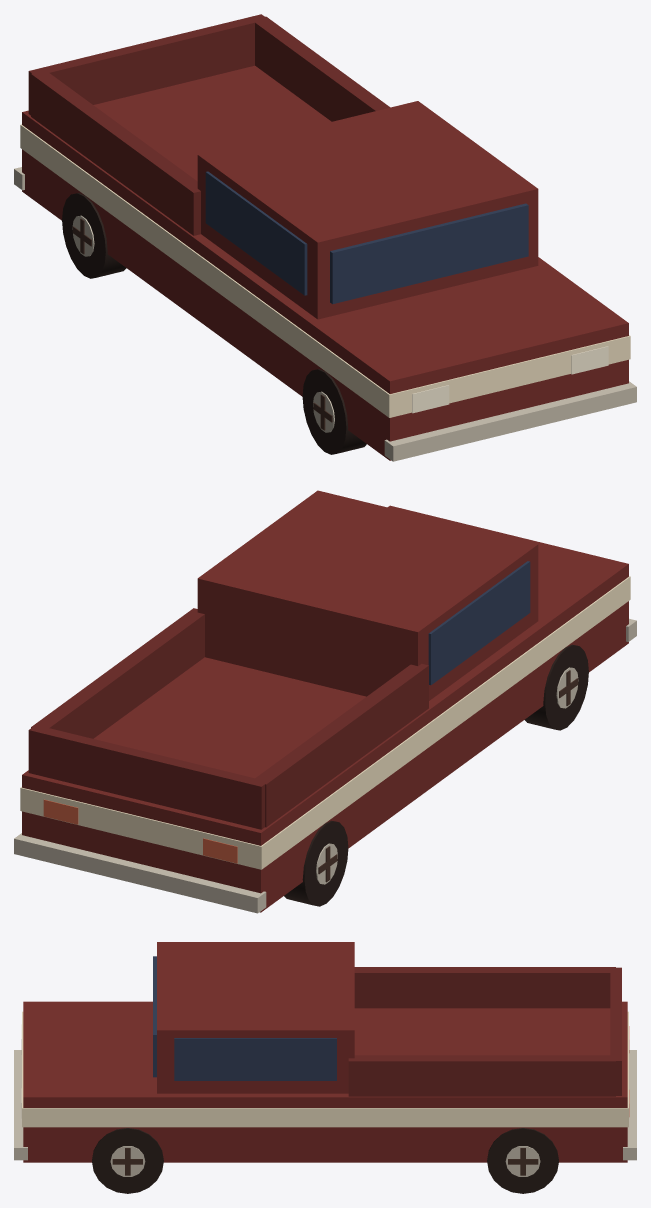
The model's file is pickup.glb.
3 views of the same model, one above another, from view 1: azimuth 30°, elevation 25°; view 2: azimuth 150°, elevation 25°; view 3: azimuth 270°, elevation 25° (orthographic). The views are drawn at different scales.
Visible parts, largest first — view 1: Box1, Box3, Box2, Box5, Box8, Box6, Box7, Box4, Box9, Part2, Part4, Box11 (+1 smaller); view 2: Box1, Box3, Box2, Box8, Box6, Box7, Box4, Box10, Part4, Part2, Box14, Box12; view 3: Box1, Box3, Box2, Box7, Box6, Box4, Part6, Part8, Box8, Box9, Box10, Box5.
Part boxes in pixels (<box>): Box1: <box>22,65,628,460</box>; Box3: <box>197,101,538,319</box>; Box2: <box>20,124,630,417</box>; Box5: <box>330,203,528,304</box>; Box8: <box>28,14,264,115</box>; Box6: <box>31,70,200,235</box>; Box7: <box>252,16,390,121</box>; Box4: <box>205,171,307,295</box>; Box9: <box>384,381,636,461</box>; Part2: <box>62,193,126,278</box>; Part4: <box>302,369,366,454</box>; Box11: <box>412,385,449,413</box>; Box1: <box>22,505,628,912</box>; Box3: <box>197,490,538,700</box>; Box2: <box>20,576,630,869</box>; Box8: <box>28,725,264,829</box>; Box6: <box>252,663,428,827</box>; Box7: <box>31,608,204,738</box>; Box4: <box>428,561,530,685</box>; Box10: <box>14,833,266,913</box>; Part4: <box>524,644,588,730</box>; Part2: <box>284,820,348,906</box>; Box14: <box>43,799,78,824</box>; Box12: <box>203,838,237,863</box>; Box1: <box>23,1001,627,1162</box>; Box3: <box>157,942,354,1093</box>; Box2: <box>22,1011,628,1127</box>; Box7: <box>348,1055,615,1096</box>; Box6: <box>354,967,615,1008</box>; Box4: <box>174,1038,336,1080</box>; Part6: <box>487,1128,558,1193</box>; Part8: <box>92,1128,163,1193</box>; Box8: <box>610,967,621,1095</box>; Box9: <box>14,1050,27,1160</box>; Box10: <box>623,1050,636,1160</box>; Box5: <box>153,956,156,1077</box>.
Size of the model in its own units: 2.01 by 1.51 by 5.36.
